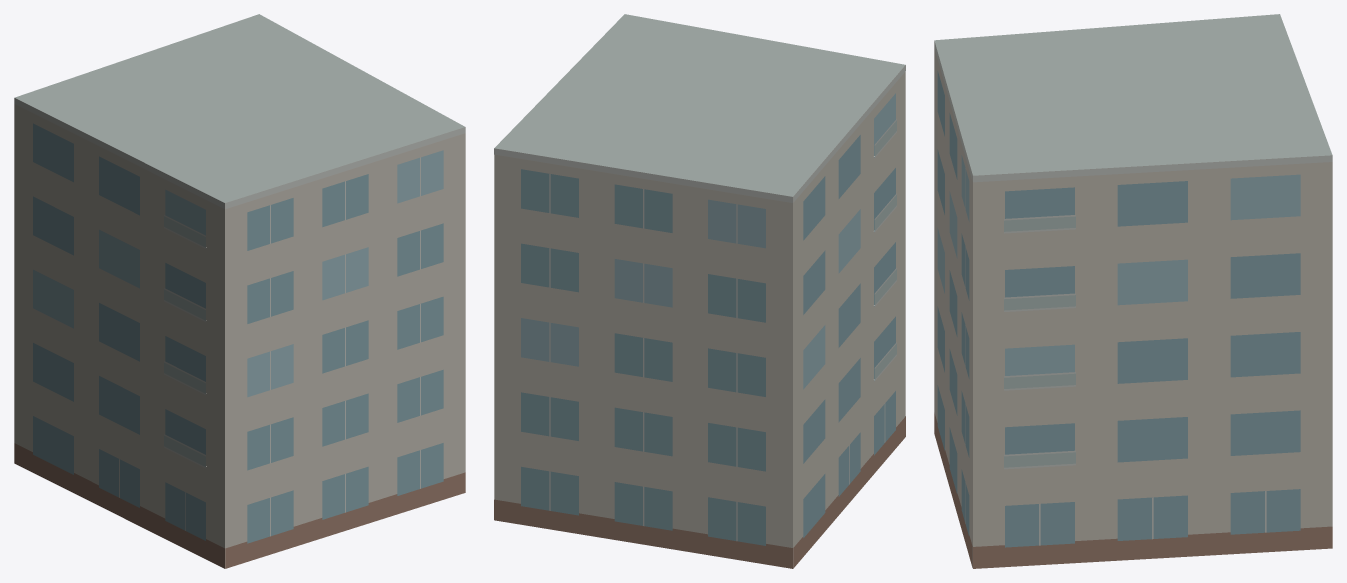
Rendered from survey-upis-32730219.glb.
The picture shows the model from 3 angles, left to right: view 1: azimuth 30°, elevation 25°; view 2: azimuth 150°, elevation 25°; view 3: azimuth 270°, elevation 25°; orthographic projection. The views are drawn at different scales.
Parts seen in each view (by area): view 1: survey-upis-32730219.tmp; view 2: survey-upis-32730219.tmp; view 3: survey-upis-32730219.tmp.
Boxes of the visible parts, x1=… form: survey-upis-32730219.tmp: x1=14, y1=14, x2=465, y2=568; survey-upis-32730219.tmp: x1=494, y1=14, x2=905, y2=568; survey-upis-32730219.tmp: x1=934, y1=14, x2=1332, y2=568.
Bounding box in the file's own units: 12.81 × 14.5 × 13.33.
